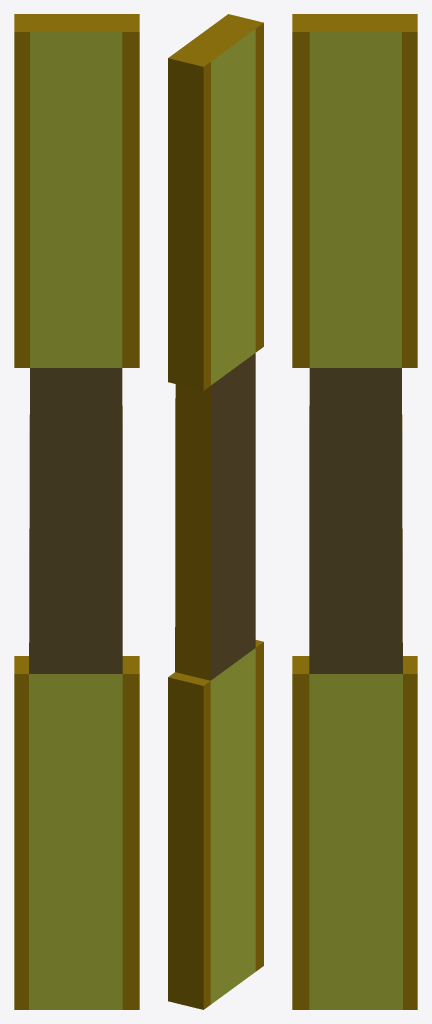
The model's file is Billboard_Small_Mid.fbx.
3 views of the same model, side by side, from view 1: azimuth 90°, elevation 25°; view 2: azimuth 150°, elevation 25°; view 3: azimuth 270°, elevation 25° (orthographic). The views are drawn at different scales.
Visible parts, largest first — view 1: polySurface708; view 2: polySurface708; view 3: polySurface708.
Part boxes in pixels (bbox=[...]): polySurface708: bbox=[14, 14, 139, 1009]; polySurface708: bbox=[168, 14, 263, 1009]; polySurface708: bbox=[292, 14, 417, 1009].
Size of the model in its own units: 3.61 by 91.41 by 10.6.
